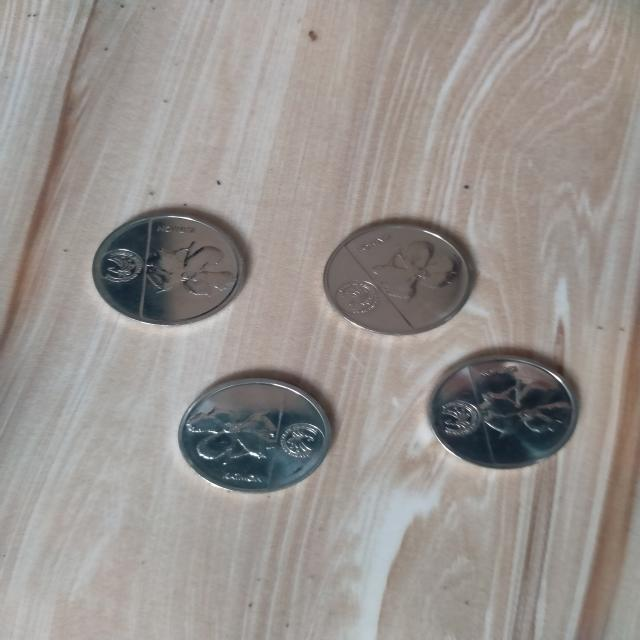25Cent_New_Back: (97, 240, 241, 302)
